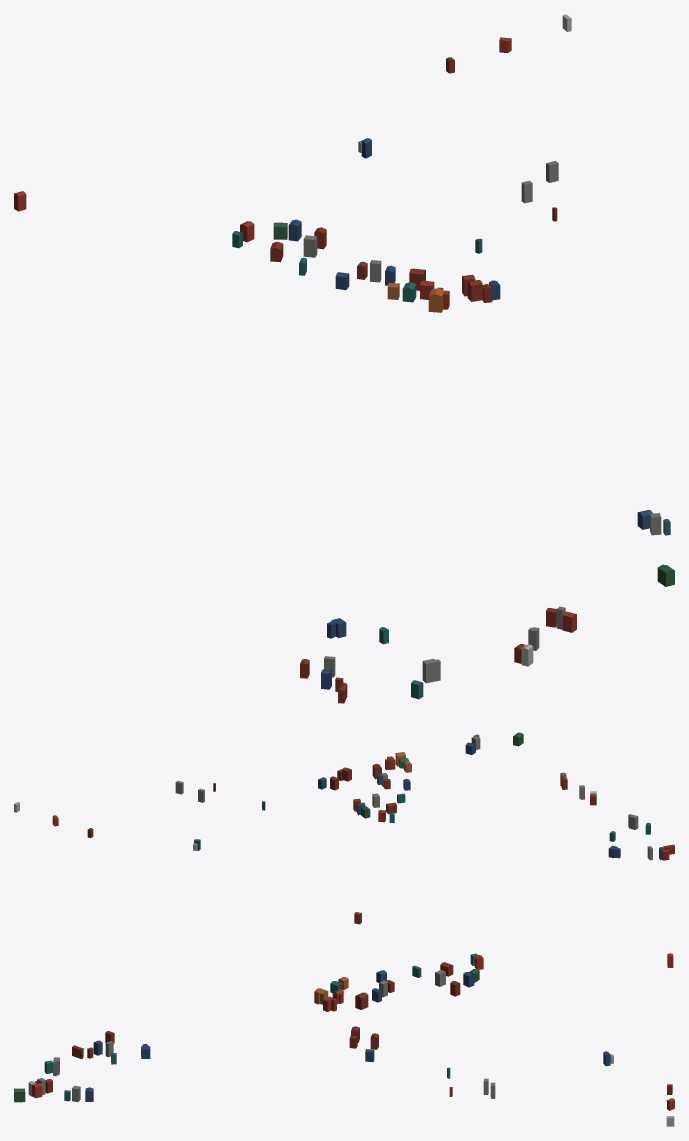
File: near-15-27352-14873.966caf52.glb
3 renders of one model, top to bottom at view 1: azimuth 30°, elevation 25°; view 2: azimuth 150°, elevation 25°; view 3: azimuth 270°, elevation 25°, orthographic. The views are drawn at different scales.
Size of the model in its own units: 903 by 299 by 1088.
